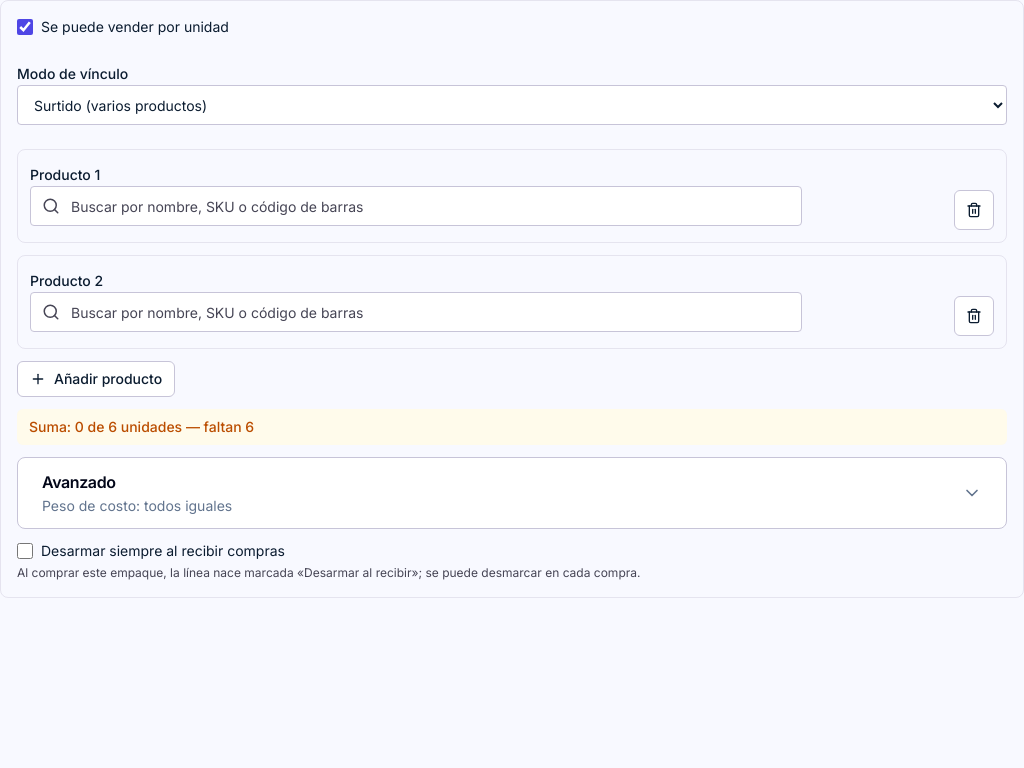
it: ProductPackConversionFields · modo surtido (PRO-13) › no ofrece el propio empaque ni guarda recientes
In the dropdown labelled "Producto 1": coordinates (416, 206) [30, 186, 802, 226], type "taladro"
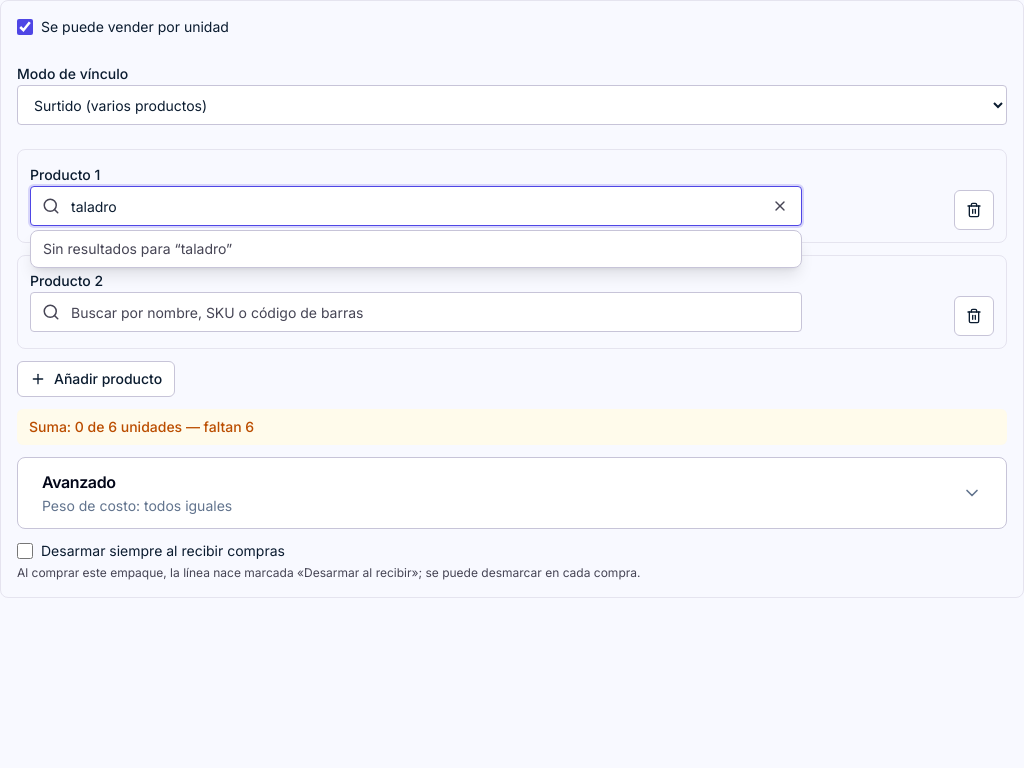
Expected: the text "Sin resultados para “taladro”" is shown, [43, 240, 232, 257]
